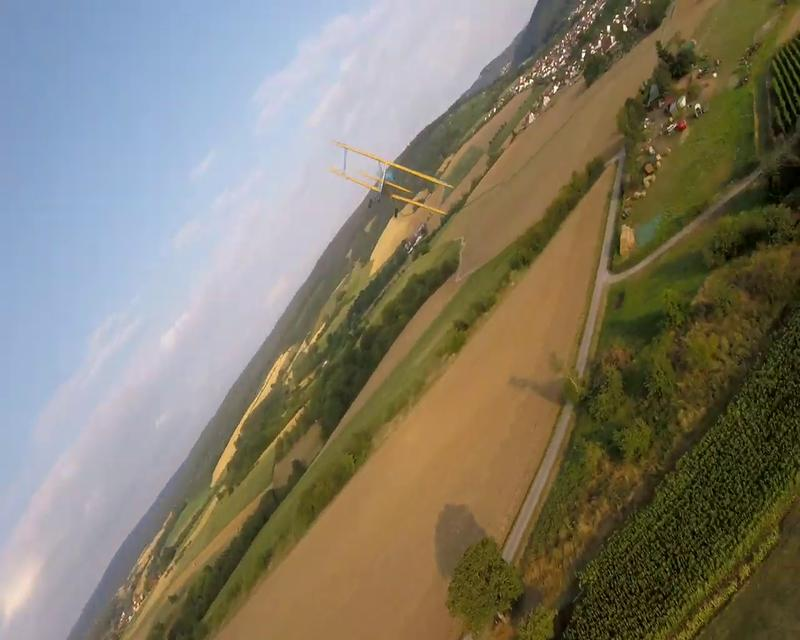UAV: (328, 138, 454, 218)
